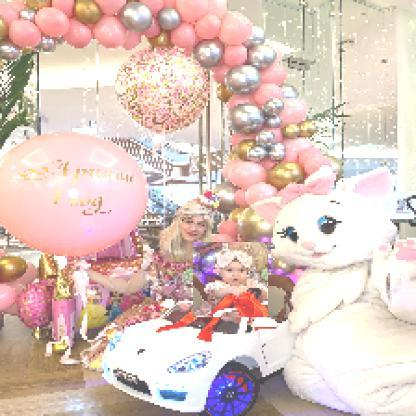child: (194, 244, 270, 320)
